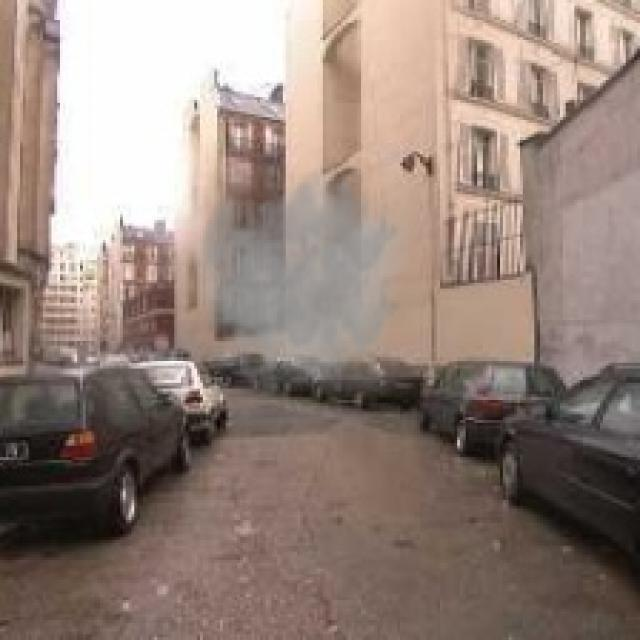smoke: (183, 166, 408, 403)
